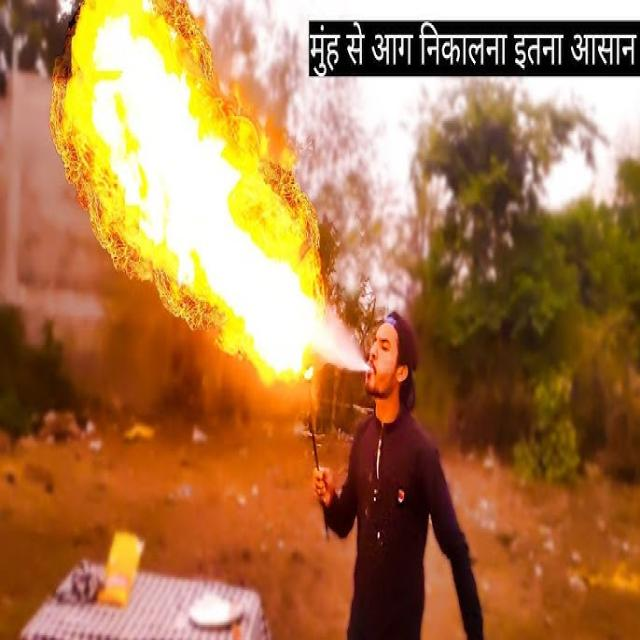fire: (156, 111, 367, 388), (51, 1, 241, 279)
